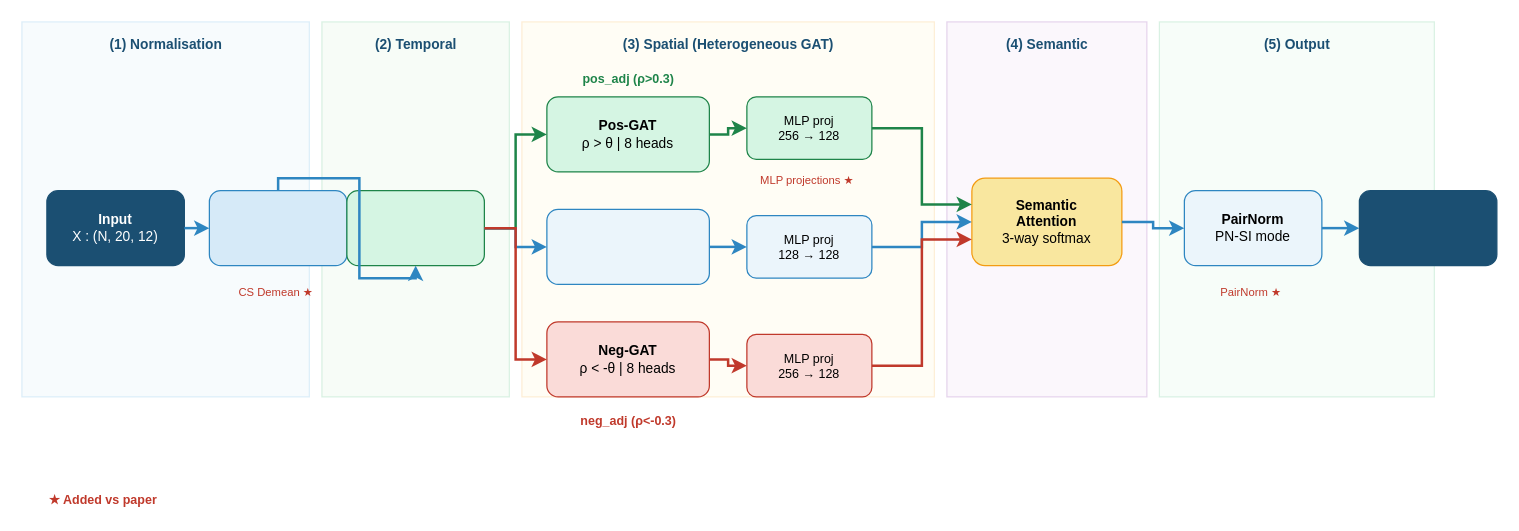
This 1519x531 diagram has some shape labels left out. The shapes that lost their labels are listed below. From the top down, each one's box as (x1, y1, x2, y2) in pixels, then its label:
(208, 189, 347, 266): LayerNorm + CS Demean
(346, 189, 484, 266): GRU hₜ : (N, 128)
(546, 208, 709, 284): Self MLP Linear projection
(1358, 189, 1497, 266): Linear (N, 1)
